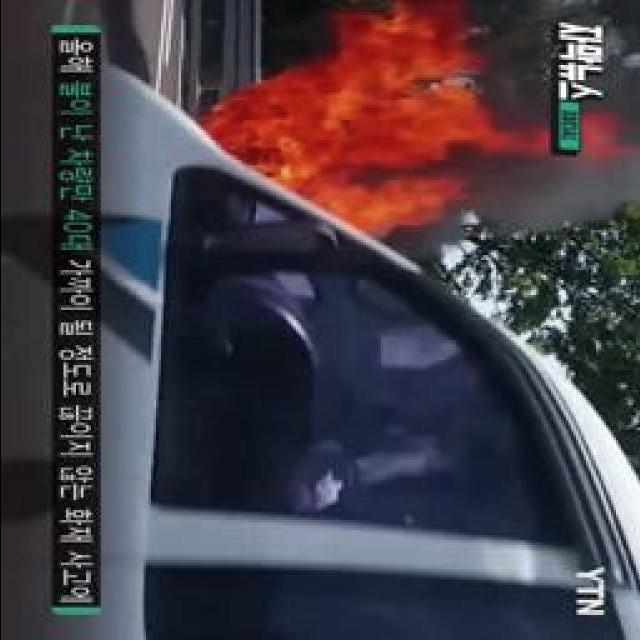Fire: (225, 7, 482, 235)
